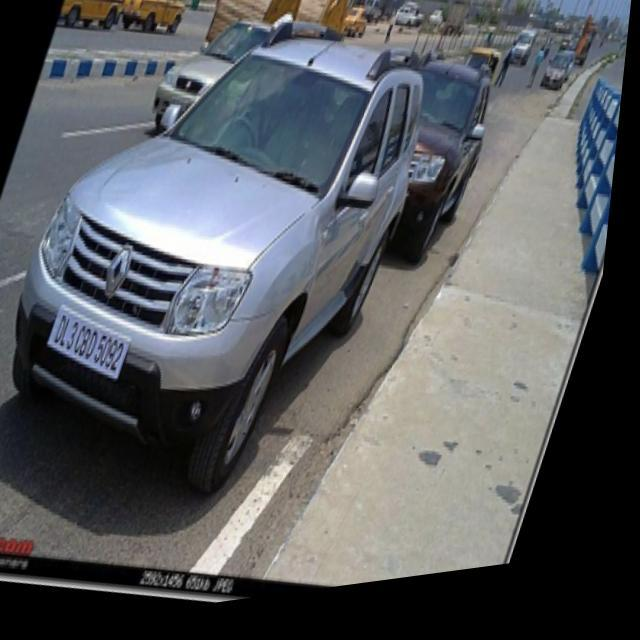license_plate: (22, 281, 161, 428)
